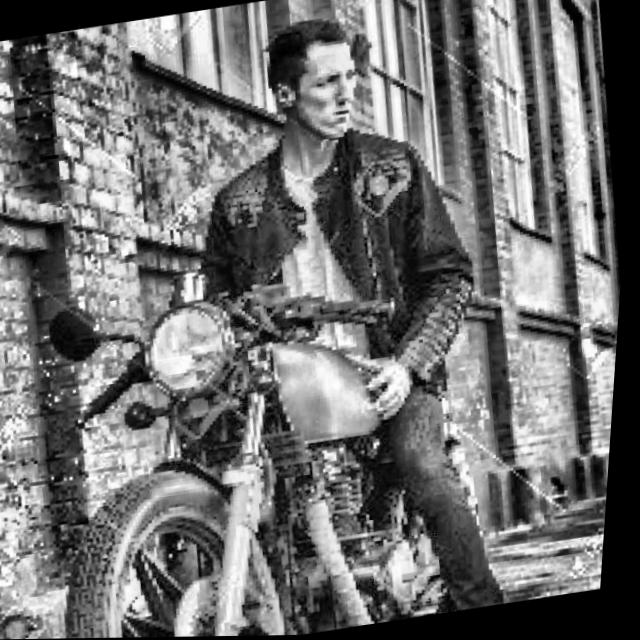motorcycle: (18, 224, 549, 639)
